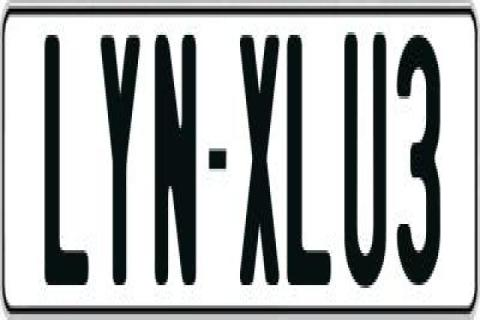0: (396, 32, 442, 300)
L: (44, 26, 96, 276), (284, 35, 330, 291)
N: (154, 32, 198, 300)
U: (345, 32, 389, 291)
X: (238, 26, 286, 291)
Y: (100, 29, 140, 291)
